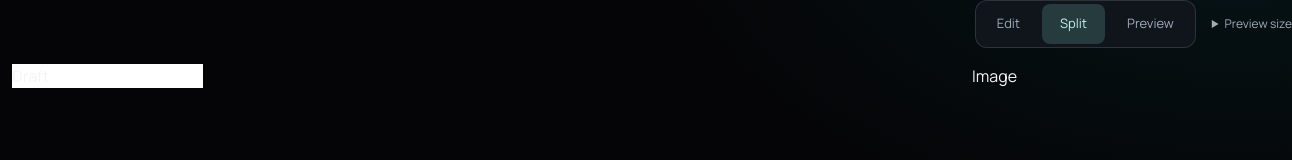
Test: keeps the reveal visible before and after the first image unless explicitly hidden
Expected: the element with class "workspace-preview-content" is shown, left=972, top=65, right=1017, bottom=87
Click the button "Edit" at (1008, 24), box left=979, top=4, right=1038, bottom=44
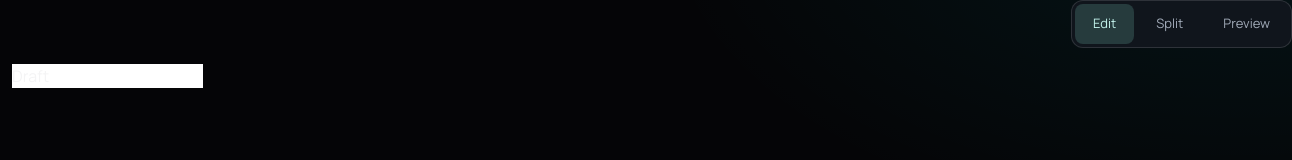
Result: the element with class "workspace-preview-content" is gone
